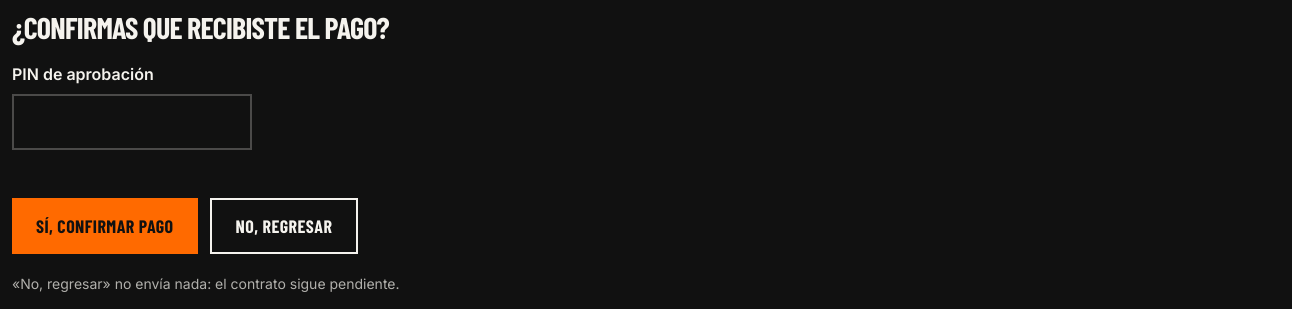
Test: ConfirmTransferForm (RF-11) › un pago por adelantado explica hasta cuándo va el mes vigente y qué cubre el nuevo
The image size is (1292, 309).
In the password field labelled "PIN de aprobación": (132, 122) left=12, top=94, right=252, bottom=150, type "482917"
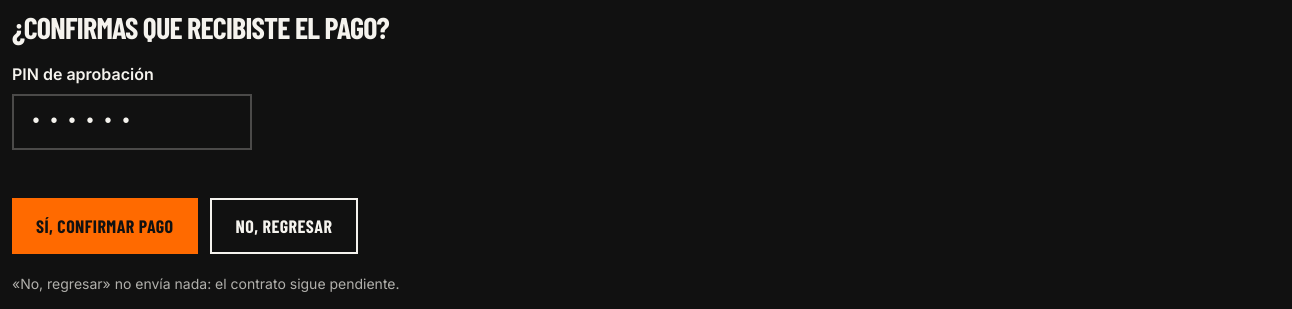
Click the button "Sí, confirmar pago": click(105, 226) left=12, top=198, right=198, bottom=254
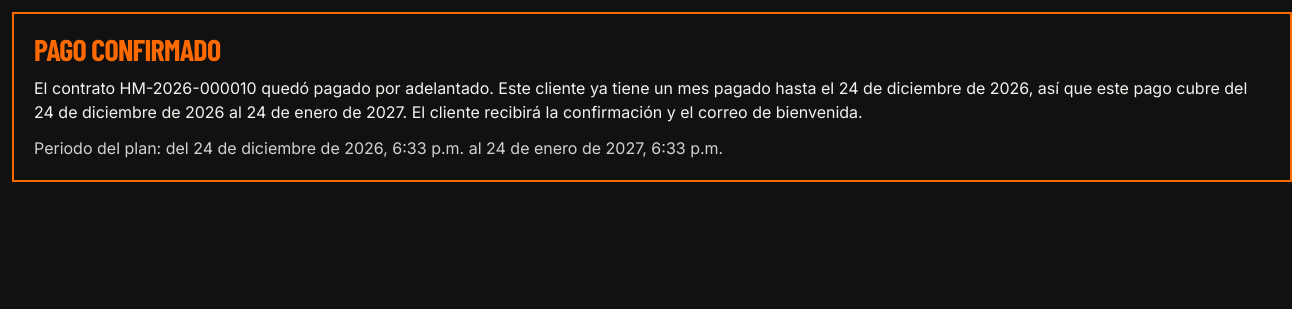
Expected: the text "Este cliente ya tiene un mes pagado hasta el 24 de diciembre de 2026, así que este pago cubre del 24 de diciembre de 202" is shown, left=34, top=78, right=1247, bottom=122
